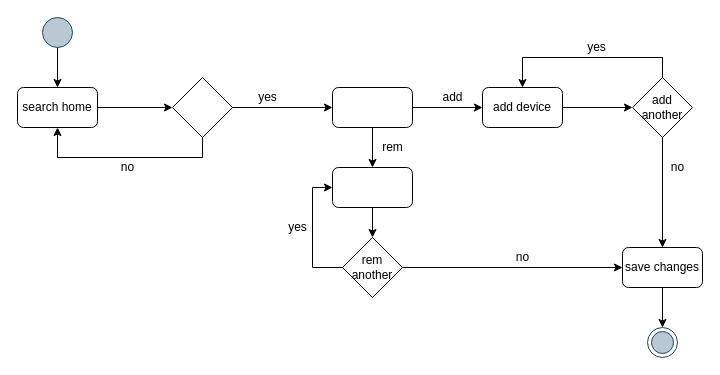
The diagram is 720 pixels wide and 375 high, and some of its shapes have lost their labels. The centre of each missing label's shape, as x and y in pixels:
add/rem: [372,107]
found it: [202,107]
remove device: [372,187]
